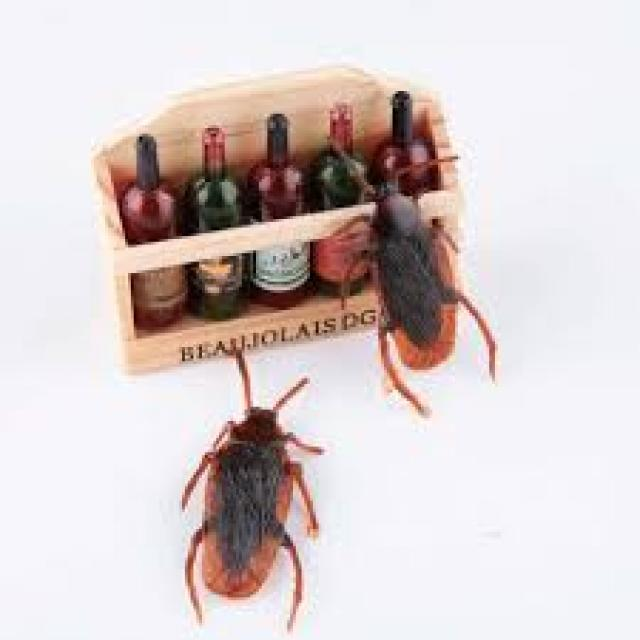Cockroach: (145, 322, 361, 640), (338, 93, 500, 413)
